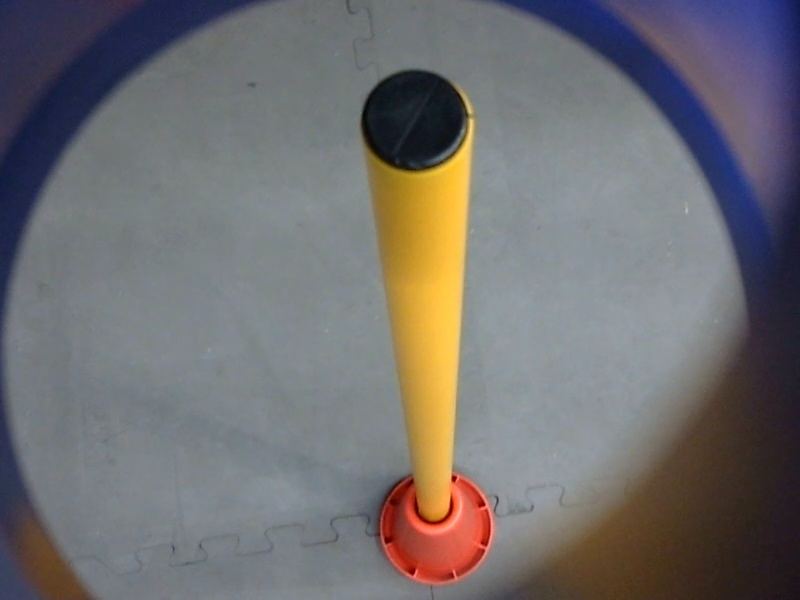tip: (349, 62, 482, 182)
